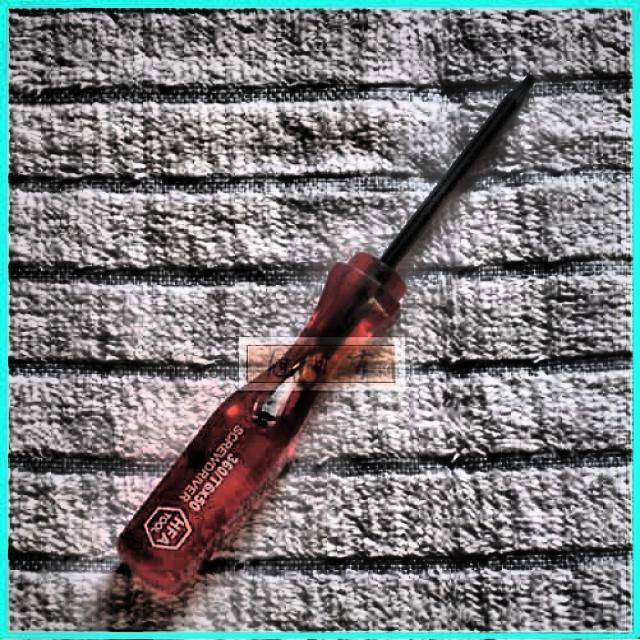screwdriver: (118, 75, 534, 593)
